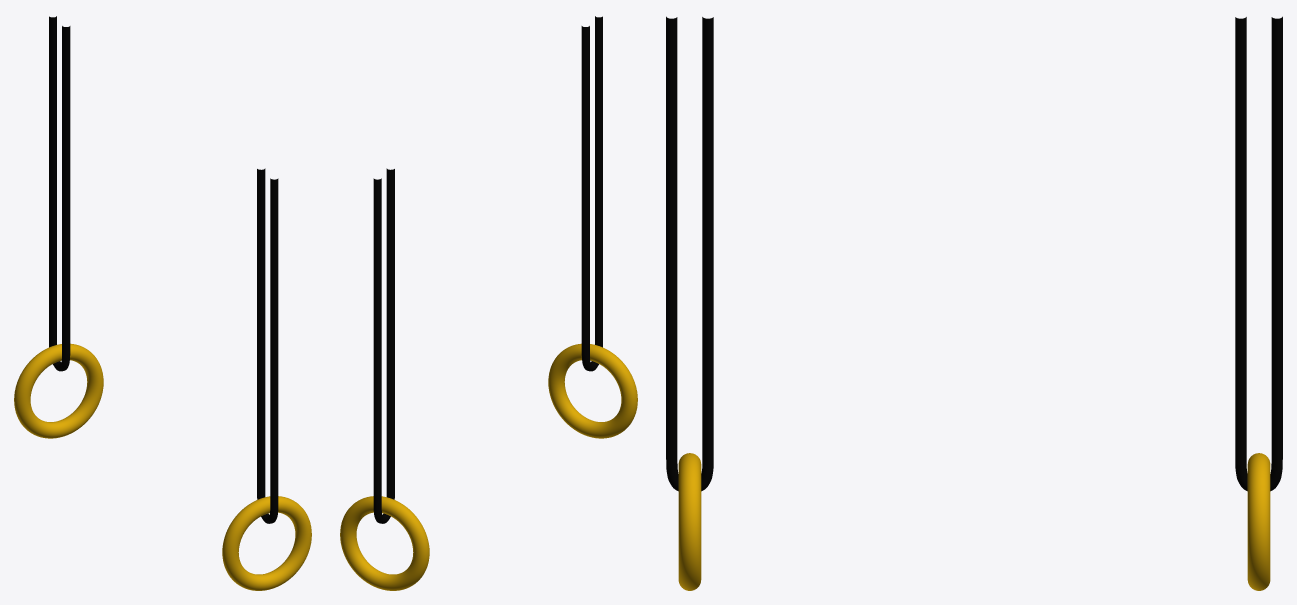
File: luxury_rings.glb
The picture shows the model from 3 angles, left to right: view 1: azimuth 30°, elevation 25°; view 2: azimuth 150°, elevation 25°; view 3: azimuth 270°, elevation 25°; orthographic projection. The views are drawn at different scales.
Size of the model in its own units: 0.0122 by 0.0556 by 0.0546.
